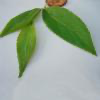Peach leaf: (41, 5, 99, 57), (14, 18, 37, 80), (0, 5, 42, 37)
